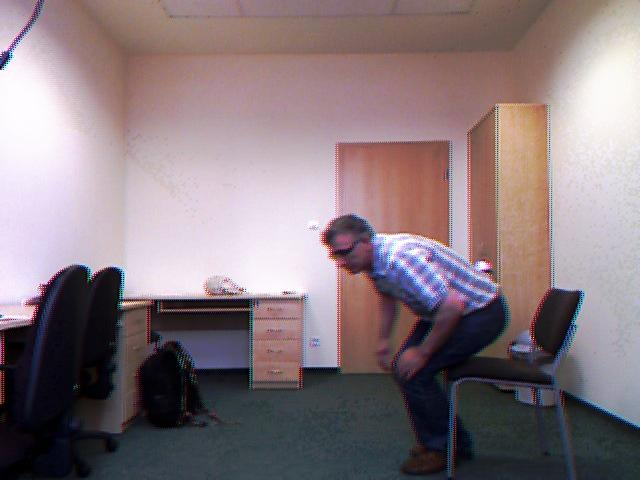near-fall: (315, 199, 520, 480)
